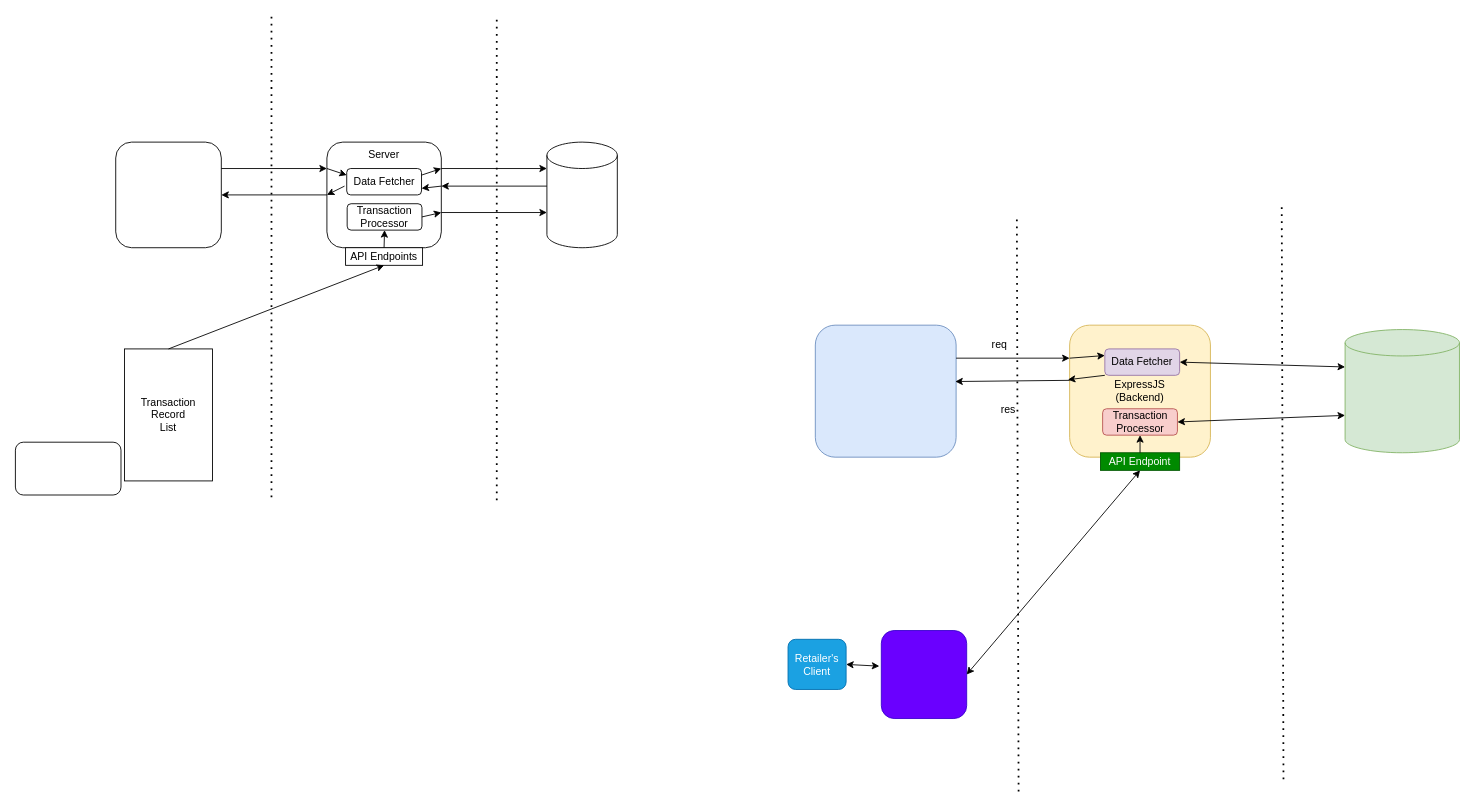
Image size: 1475x809. Some labels were removed from this diagram. The shapes that lost their labels are listed below. From the top down, each one's centre as x and y in pixels, then its label:
At point (168, 194): "UI".
At point (581, 194): "DB".
At point (885, 390): "ReactJS (Front-end)".
At point (1401, 391): "MongoDB (DB)".
At point (923, 674): "Retailer's API".
